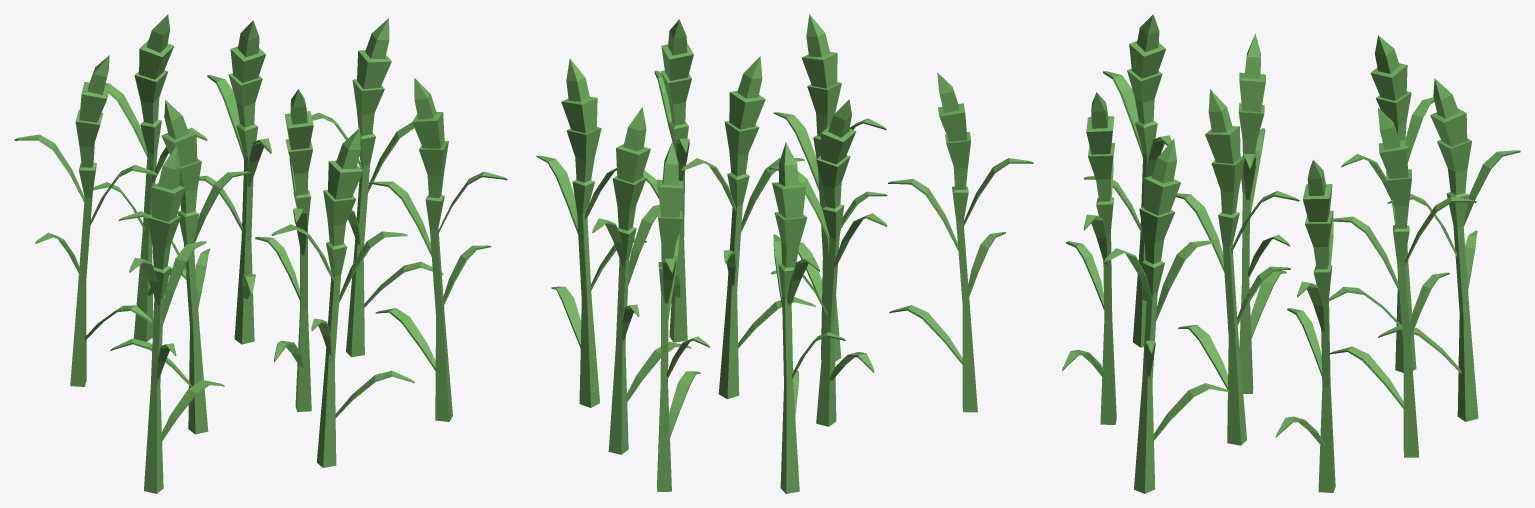
The model's file is Wheat_3-optimized.glb.
3 views of the same model, side by side, from view 1: azimuth 30°, elevation 25°; view 2: azimuth 150°, elevation 25°; view 3: azimuth 270°, elevation 25° (orthographic). The views are drawn at different scales.
Visible parts, largest first — view 1: Wheat_3.007, Wheat_3.005, Wheat_3.006, Wheat_3.008, Wheat_3.004, Wheat_3.001, Wheat_3.002, Wheat_3.003, Wheat_3; view 2: Wheat_3.004, Wheat_3.008, Wheat_3, Wheat_3.007, Wheat_3.001, Wheat_3.002, Wheat_3.003, Wheat_3.006, Wheat_3.005; view 3: Wheat_3, Wheat_3.005, Wheat_3.003, Wheat_3.008, Wheat_3.004, Wheat_3.006, Wheat_3.001, Wheat_3.007, Wheat_3.002.
Boxes of the visible parts, <box> form: Wheat_3.007: <box>129,145,224,493</box>; Wheat_3.005: <box>368,78,507,421</box>; Wheat_3.006: <box>271,128,414,467</box>; Wheat_3.008: <box>199,20,271,344</box>; Wheat_3.004: <box>311,18,443,357</box>; Wheat_3.001: <box>110,100,251,434</box>; Wheat_3.002: <box>14,55,156,386</box>; Wheat_3.003: <box>93,14,207,341</box>; Wheat_3: <box>255,89,313,411</box>; Wheat_3.004: <box>536,58,646,407</box>; Wheat_3.008: <box>592,107,691,454</box>; Wheat_3: <box>681,56,815,399</box>; Wheat_3.007: <box>888,72,1033,412</box>; Wheat_3.001: <box>769,99,887,426</box>; Wheat_3.002: <box>772,142,845,493</box>; Wheat_3.003: <box>657,141,709,491</box>; Wheat_3.006: <box>773,14,887,361</box>; Wheat_3.005: <box>643,19,693,342</box>; Wheat_3: <box>1176,89,1299,445</box>; Wheat_3.005: <box>1104,138,1229,493</box>; Wheat_3.003: <box>1378,78,1520,421</box>; Wheat_3.008: <box>1330,108,1476,457</box>; Wheat_3.004: <box>1275,160,1335,492</box>; Wheat_3.006: <box>1062,92,1116,424</box>; Wheat_3.001: <box>1238,33,1290,393</box>; Wheat_3.007: <box>1083,14,1171,347</box>; Wheat_3.002: <box>1329,35,1434,372</box>.
Bounding box in the file's own units: 0.8765 × 0.6943 × 0.8406.
